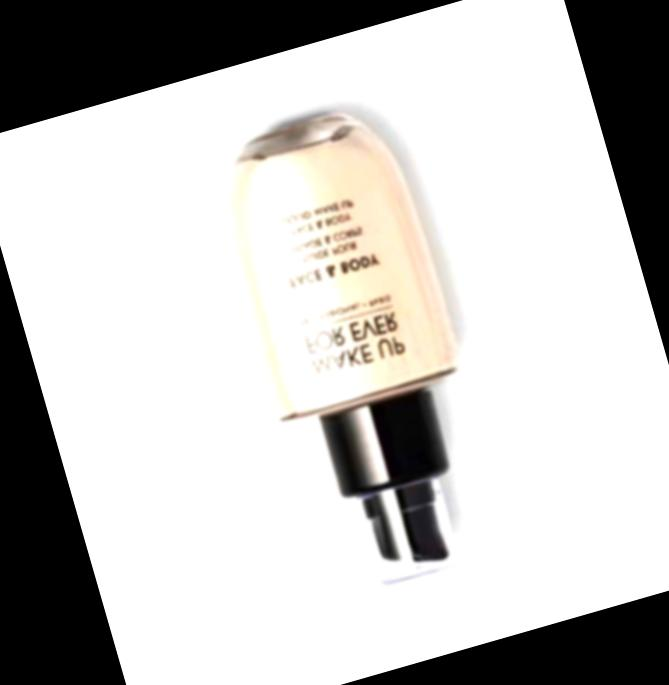cosmetic: (199, 93, 518, 604)
